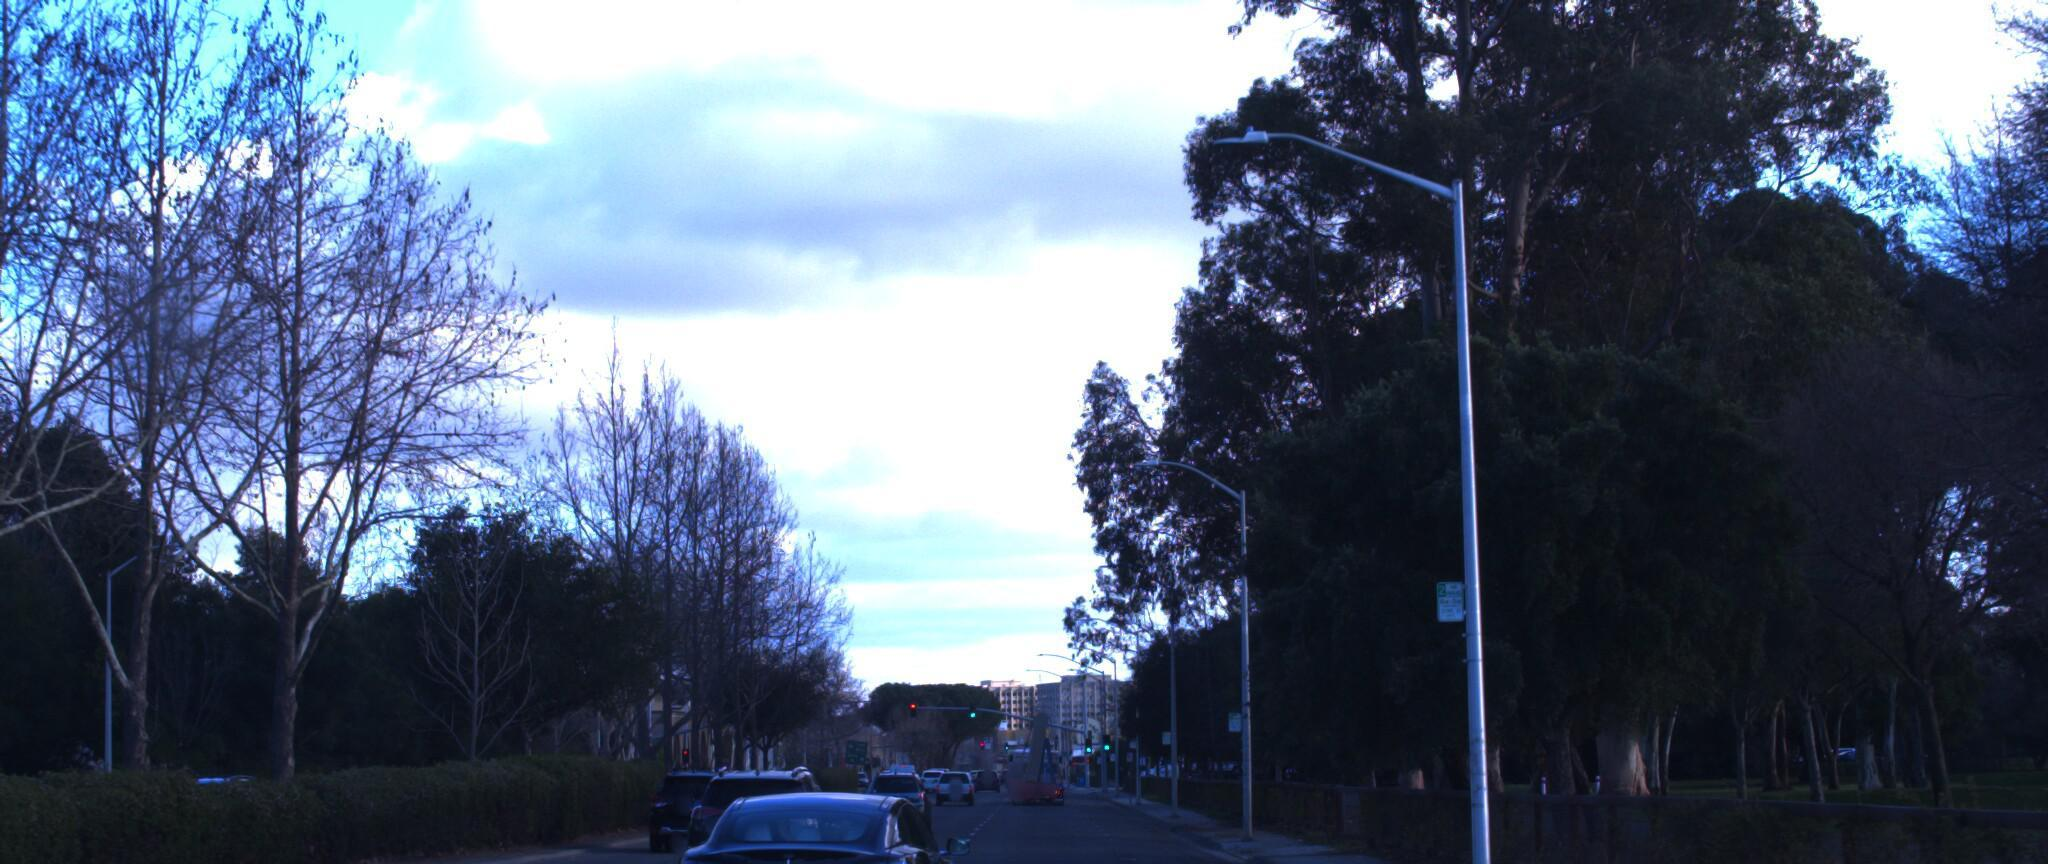car: (657, 778, 967, 864), (690, 750, 859, 864), (657, 754, 765, 833), (872, 753, 946, 810)
